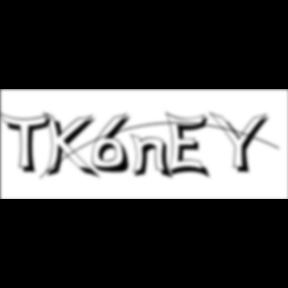6: (92, 112, 138, 176)
E: (166, 110, 214, 182)
K: (44, 110, 102, 182)
T: (1, 112, 58, 176)
Y: (208, 110, 276, 176)
n: (130, 132, 176, 181)
